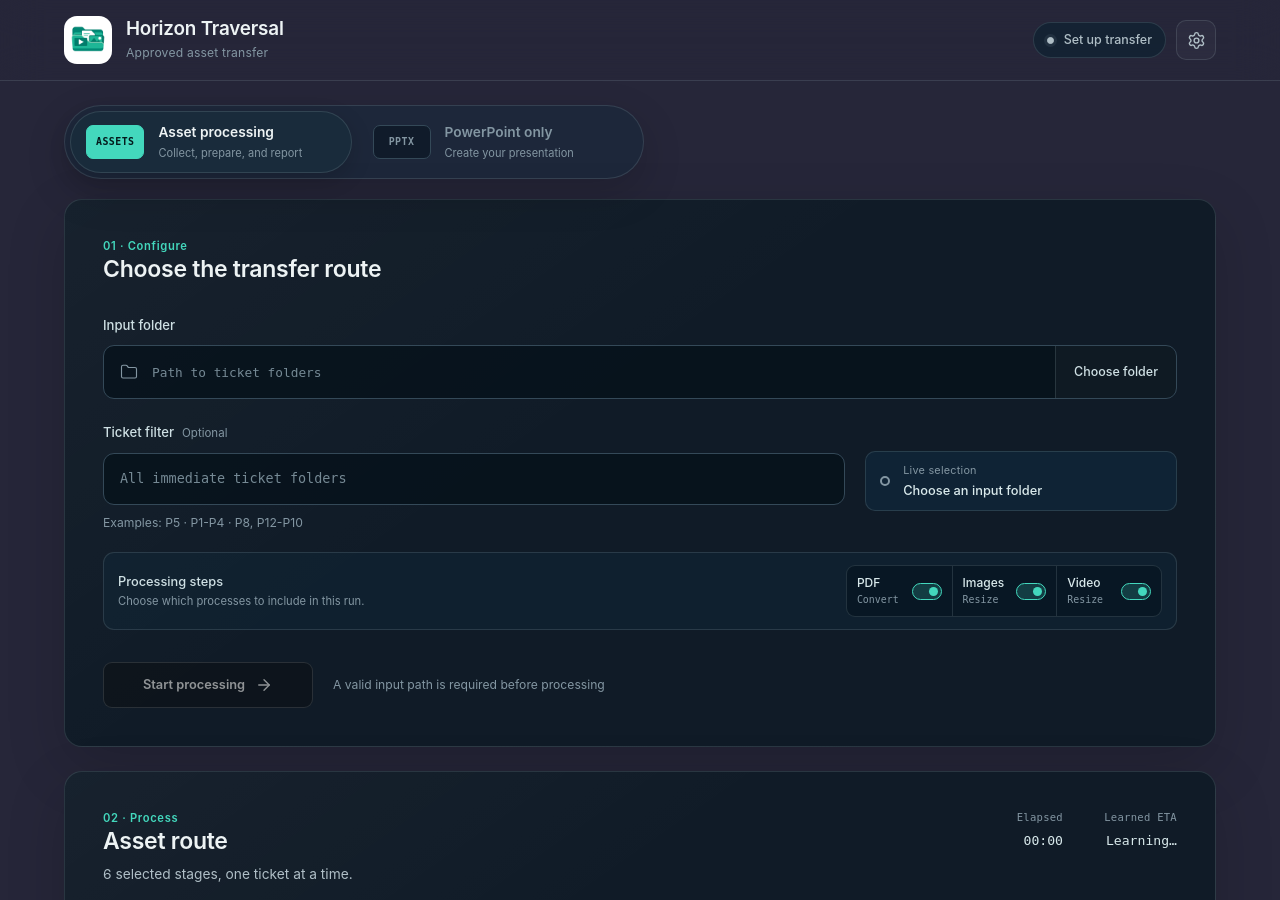
it: Horizon Traversal workbench › uses Radix workflow tabs and keeps independent input folders
Type "/asset-tickets" into the field labelled "Input folder" at [596, 372], box [138, 348, 1055, 397]
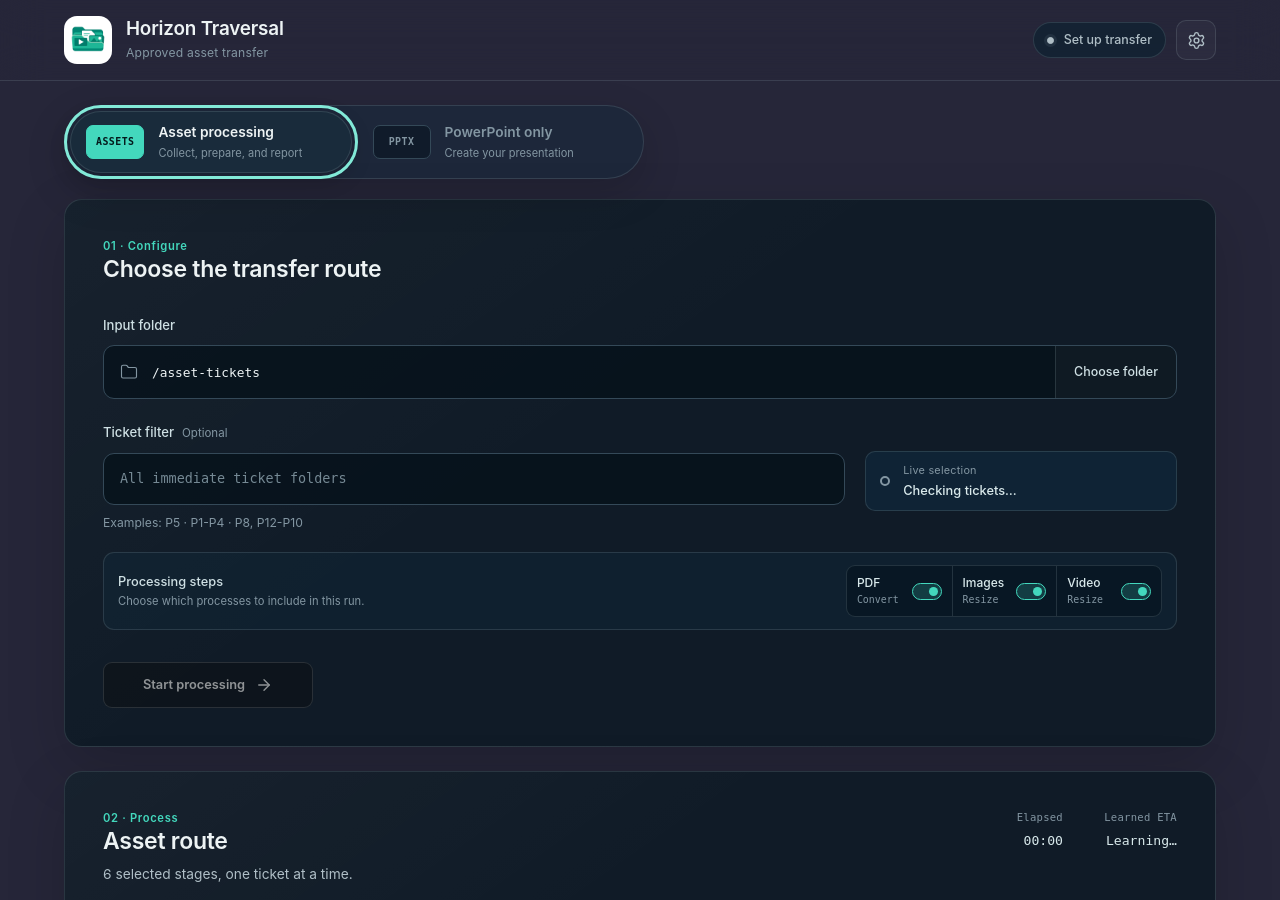
Expected: the text "A valid input path is required before processing" is gone
Press ArrowRight in the tab "Assets Asset processing Collect, prepare, and report", box [70, 111, 352, 173]
Wait 1 ms
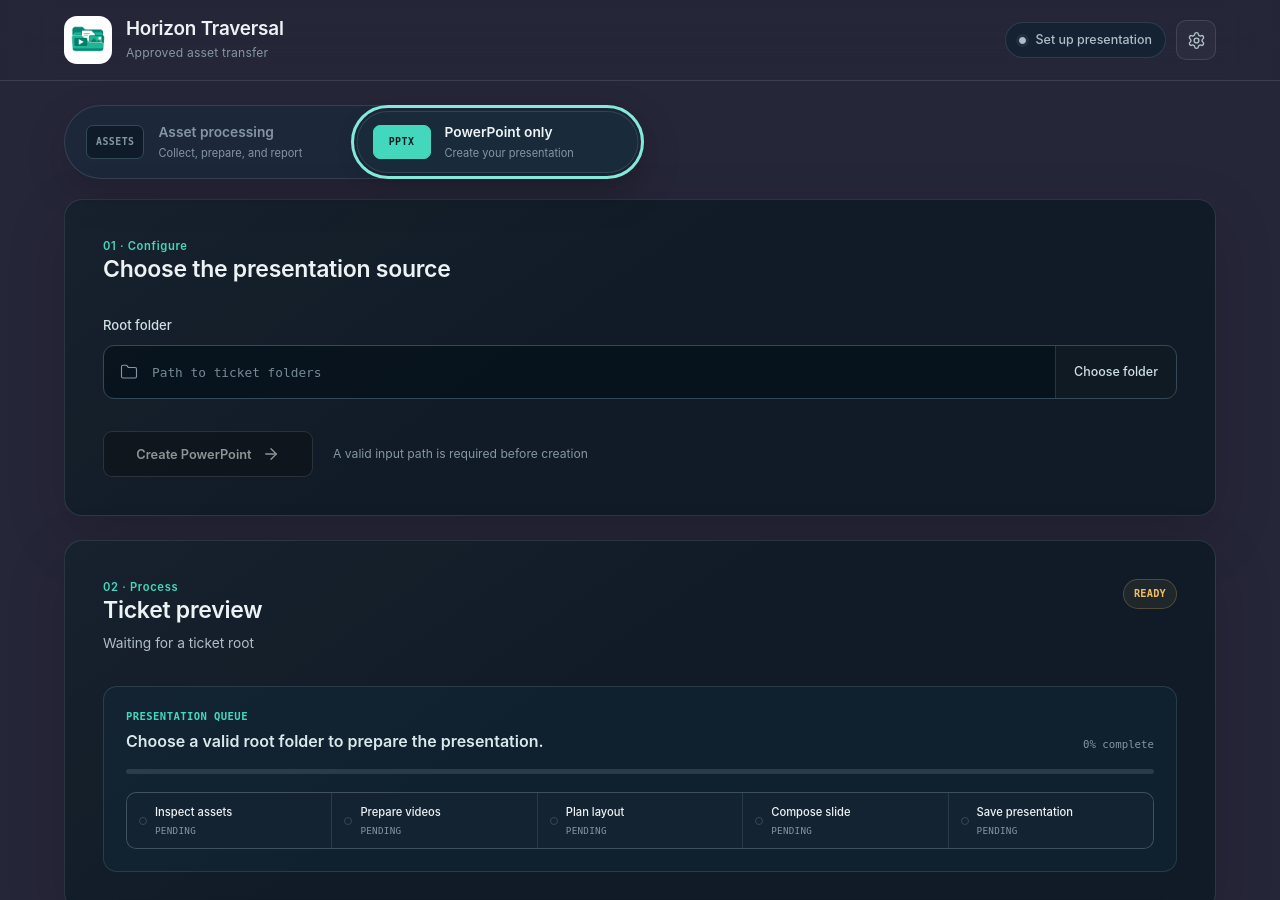
Expected: the text "Set up presentation" is shown, [1004, 22, 1166, 58]
Expected: the label labelled "Ticket filter Optional" is gone
Click the button "Choose folder" at [1116, 372], box [1055, 346, 1176, 398]
Wait 360 ms
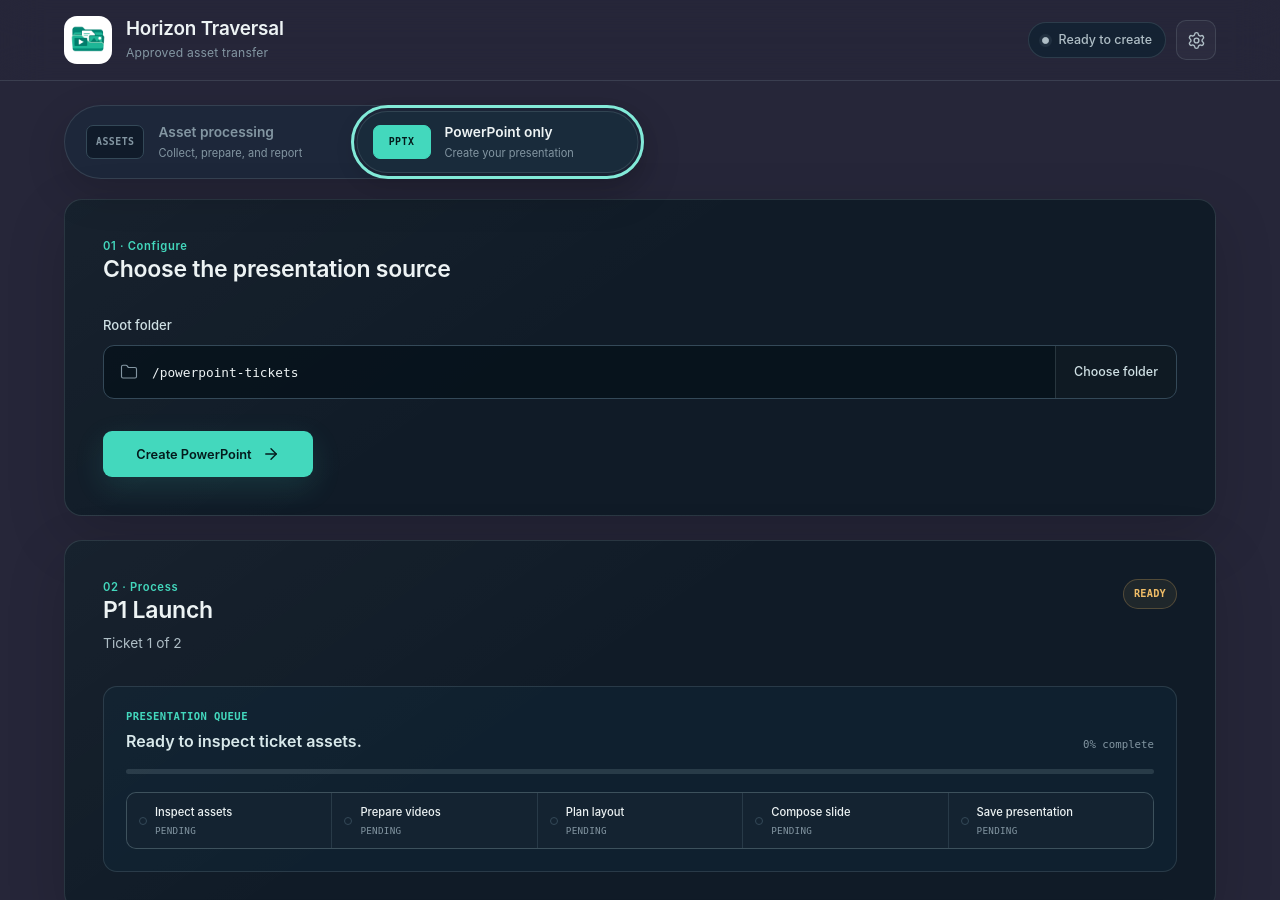
Expected: the list named "PowerPoint creation stages" is shown, [126, 792, 1154, 849]
Expected: the heading "P1 Launch" is shown, [103, 596, 213, 625]
Expected: the text "Ticket 1 of 2" is shown, [103, 635, 182, 651]
Press ArrowLeft in the tab "PPTX PowerPoint only Create your presentation", box [356, 111, 638, 173]
Wait 1 ms
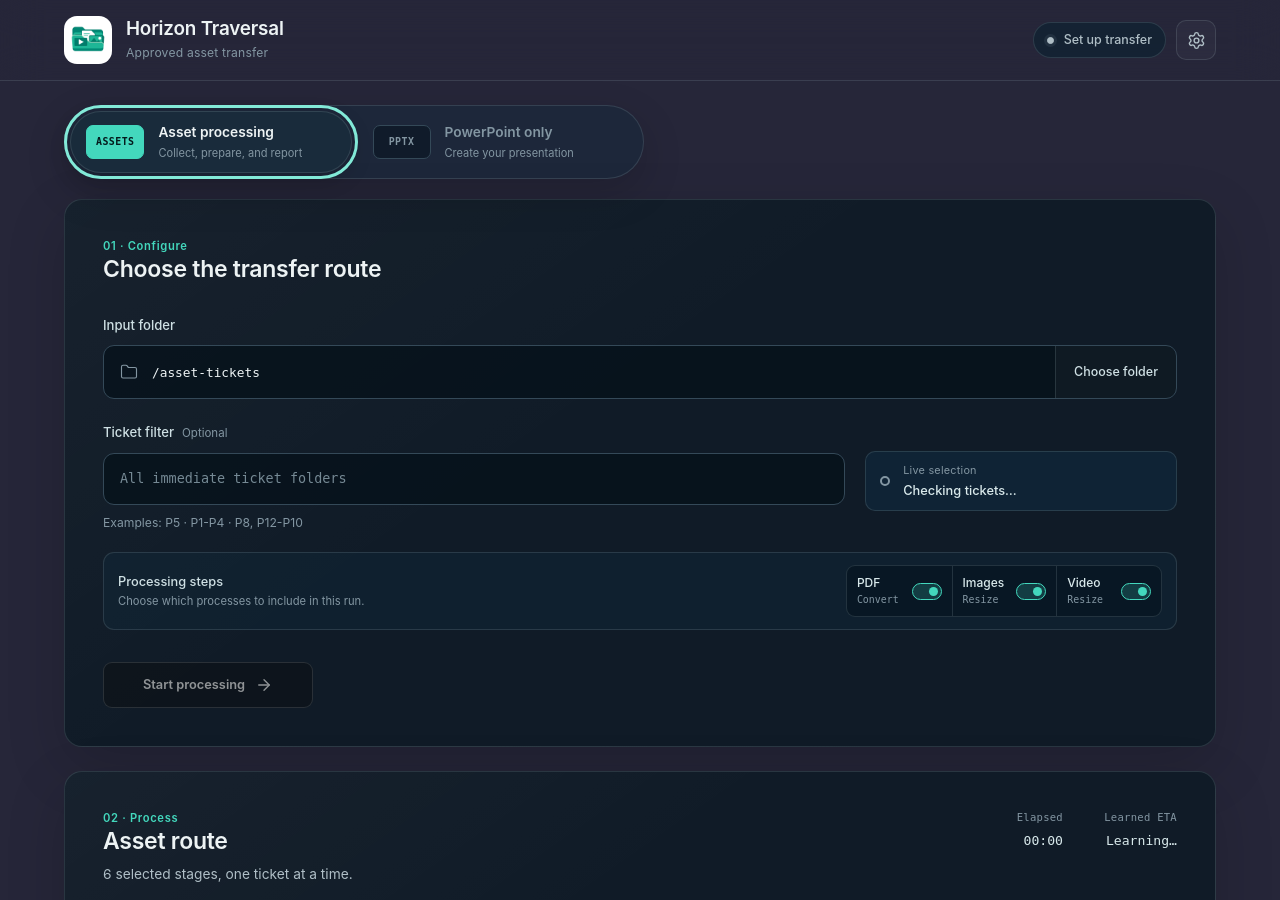
Expected: the field labelled "Input folder" holds "/asset-tickets", [138, 348, 1055, 397]
